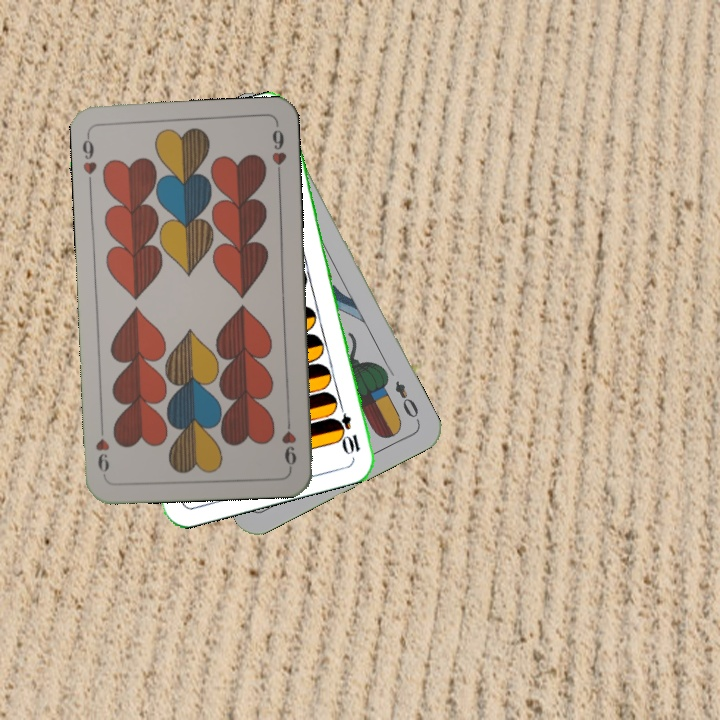E10: (333, 398, 363, 457)
EO: (391, 377, 423, 425)
H9: (78, 129, 100, 189), (278, 411, 299, 471)
